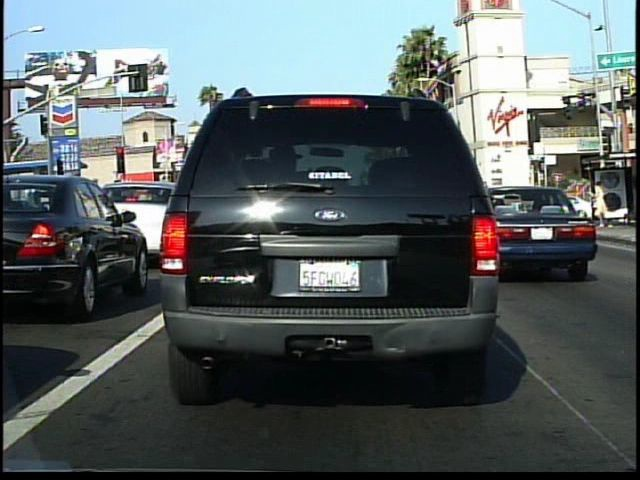person: (590, 173, 615, 230)
